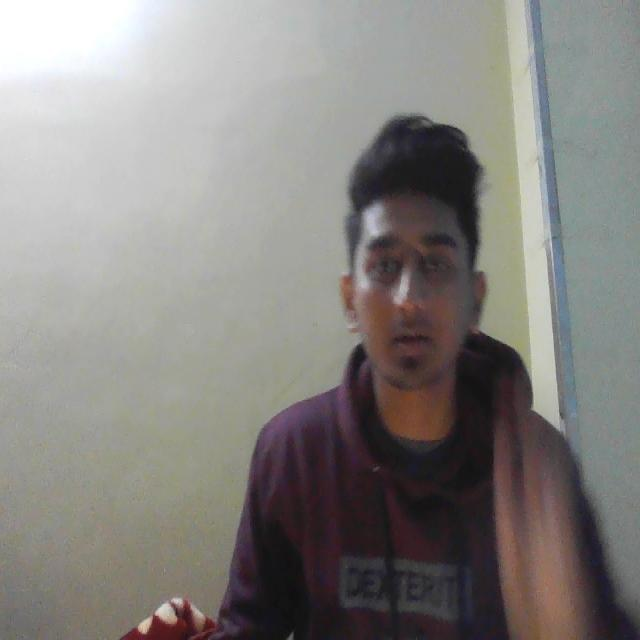real: (333, 116, 497, 425)
